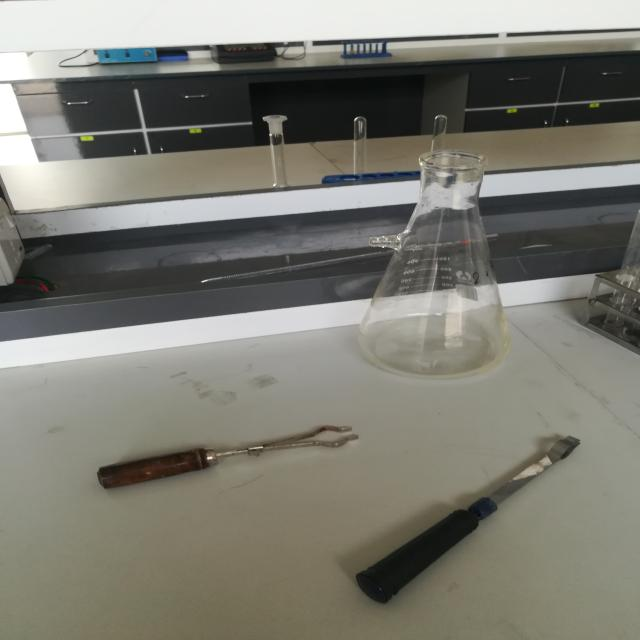Conical_Flask: (336, 138, 547, 392)
TestTube_Holder: (340, 415, 640, 618), (33, 397, 411, 511)
